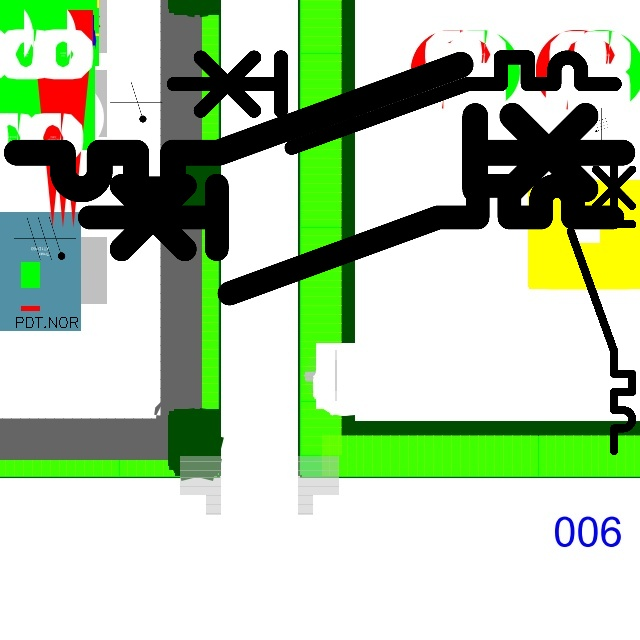interruptor_termomagnetico: (1, 49, 638, 205), (76, 172, 626, 306), (162, 46, 626, 159), (563, 143, 640, 458)
